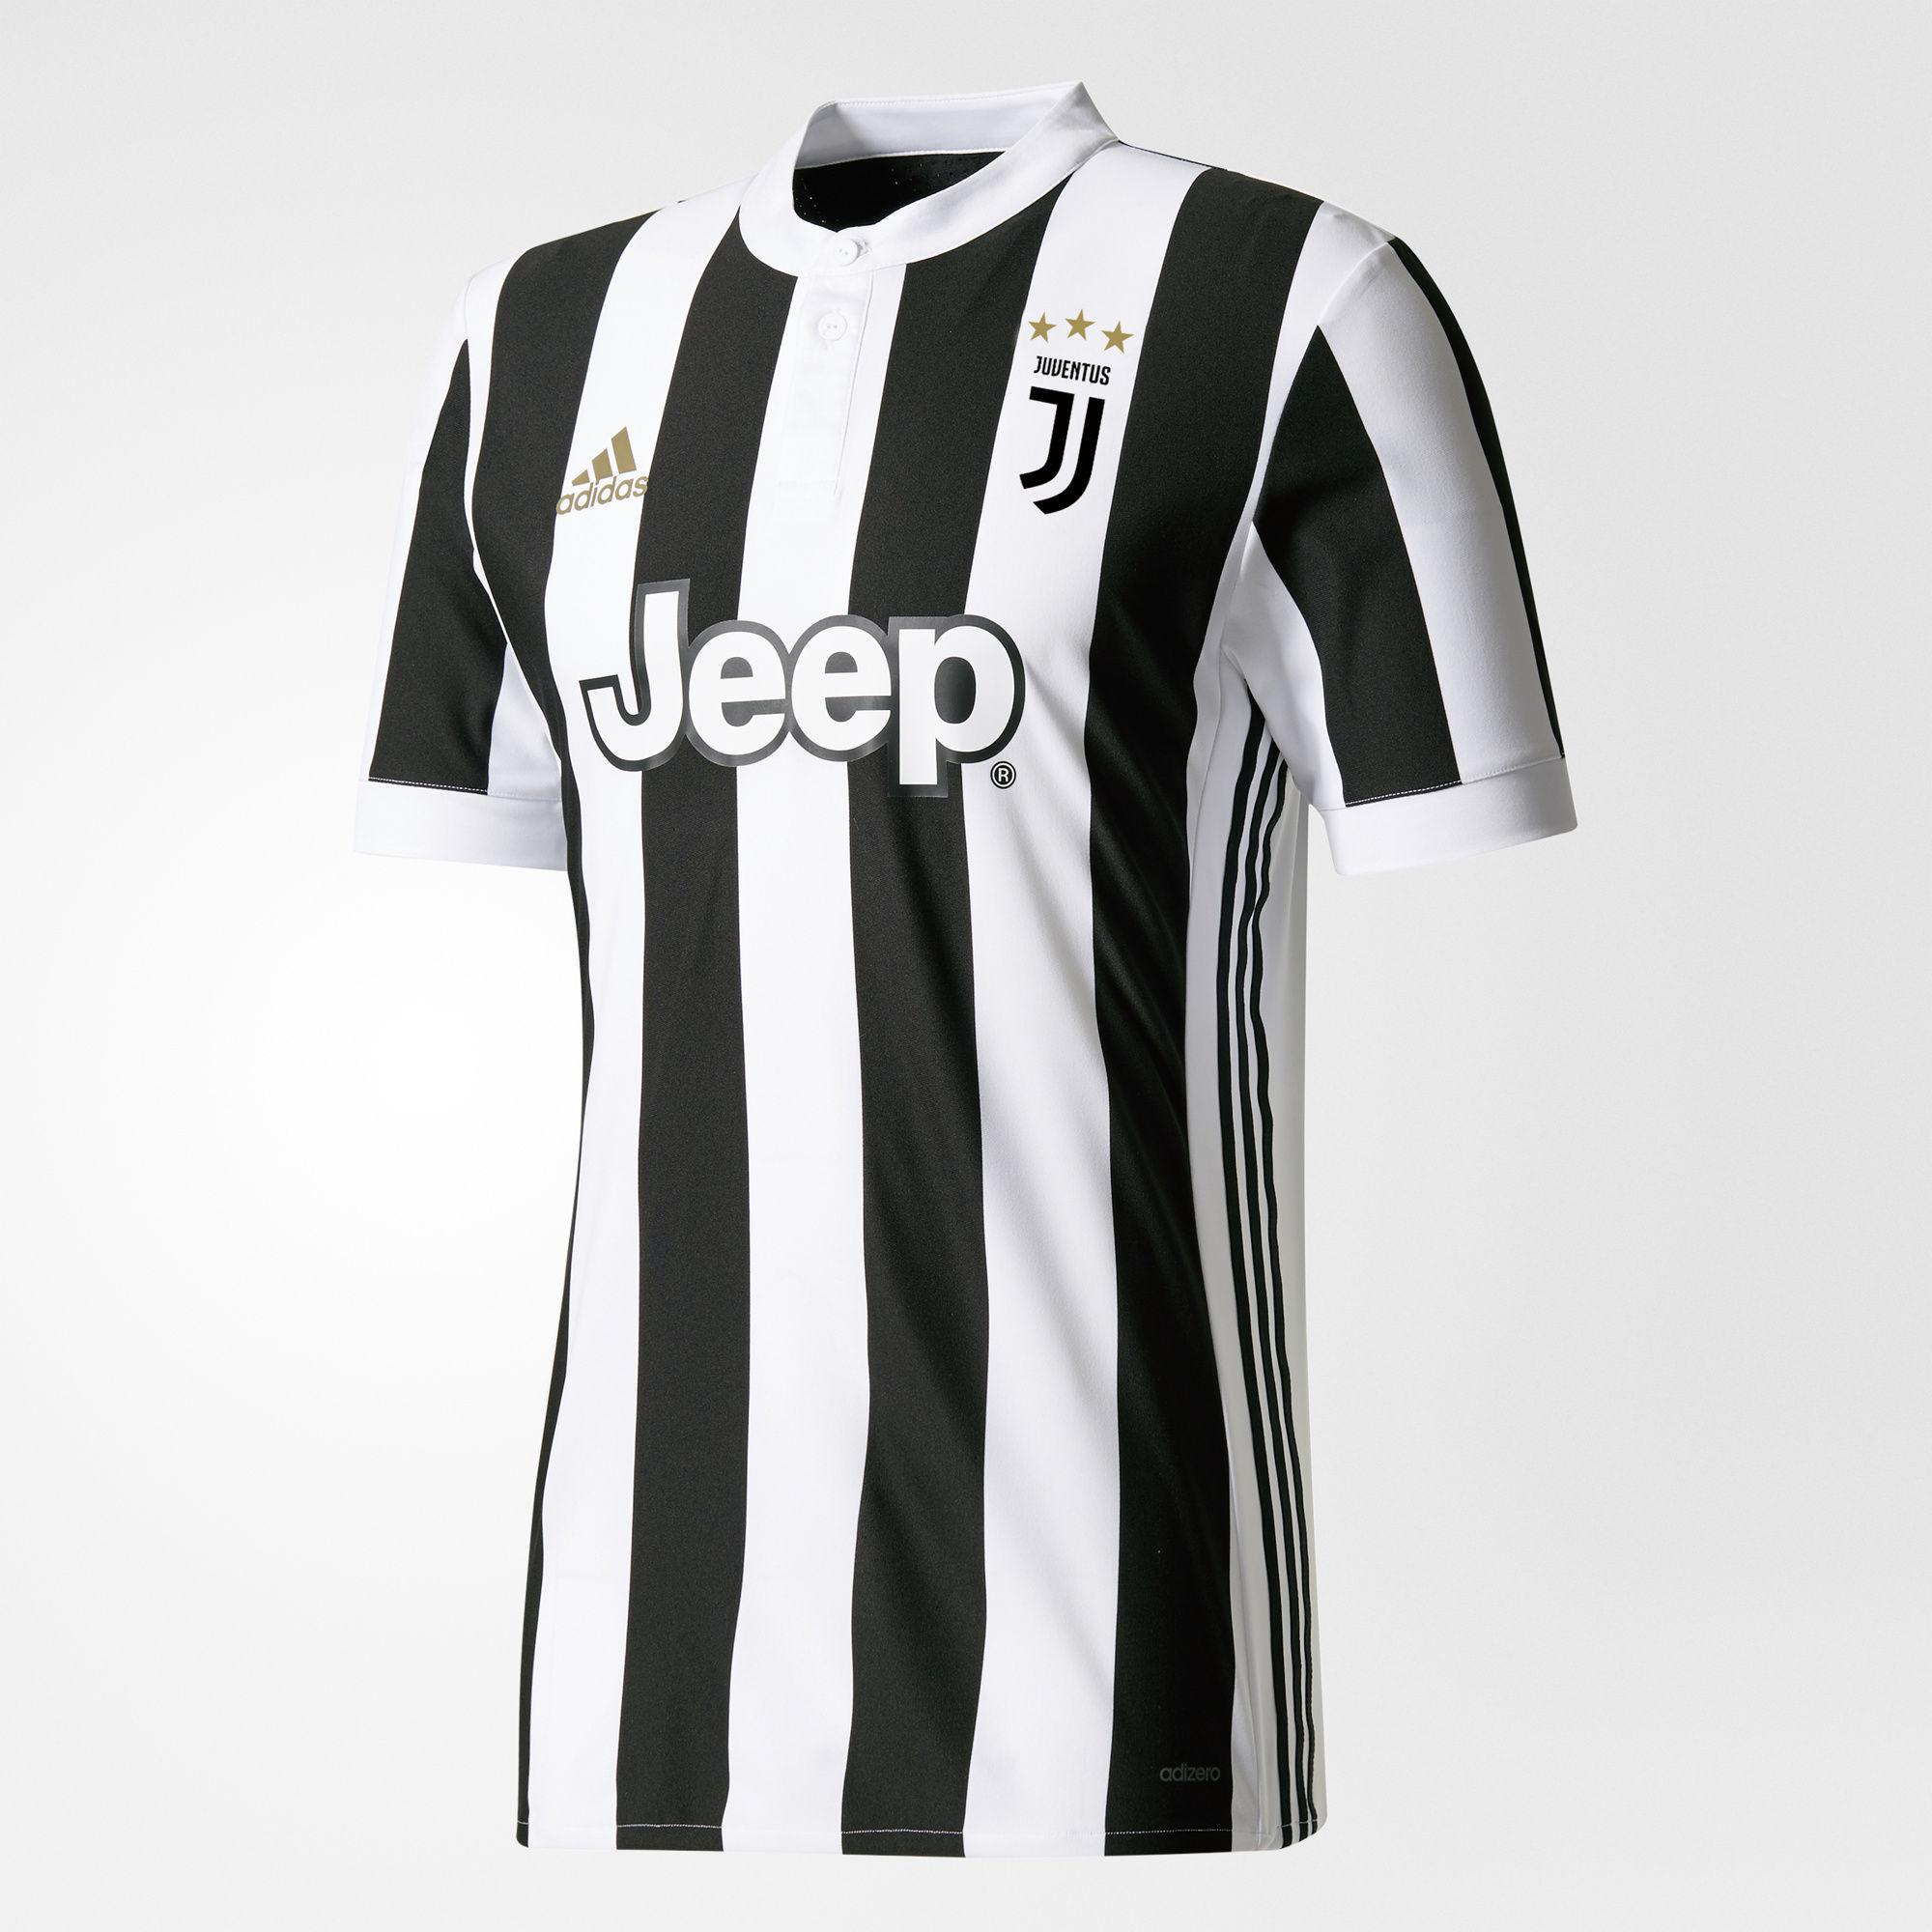teeshirt: (338, 73, 1631, 1902)
